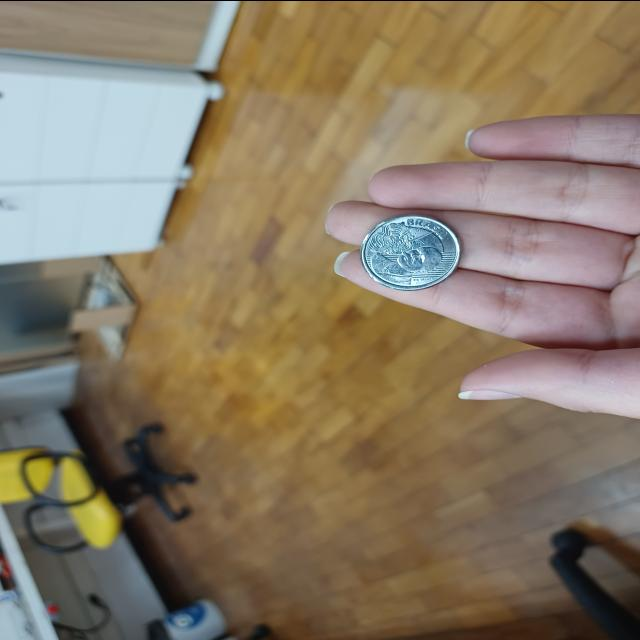50 cents: (359, 212, 464, 290)
